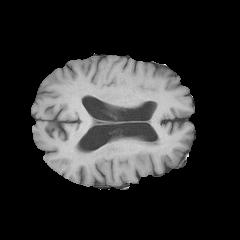glioma: (73, 136, 167, 174)
